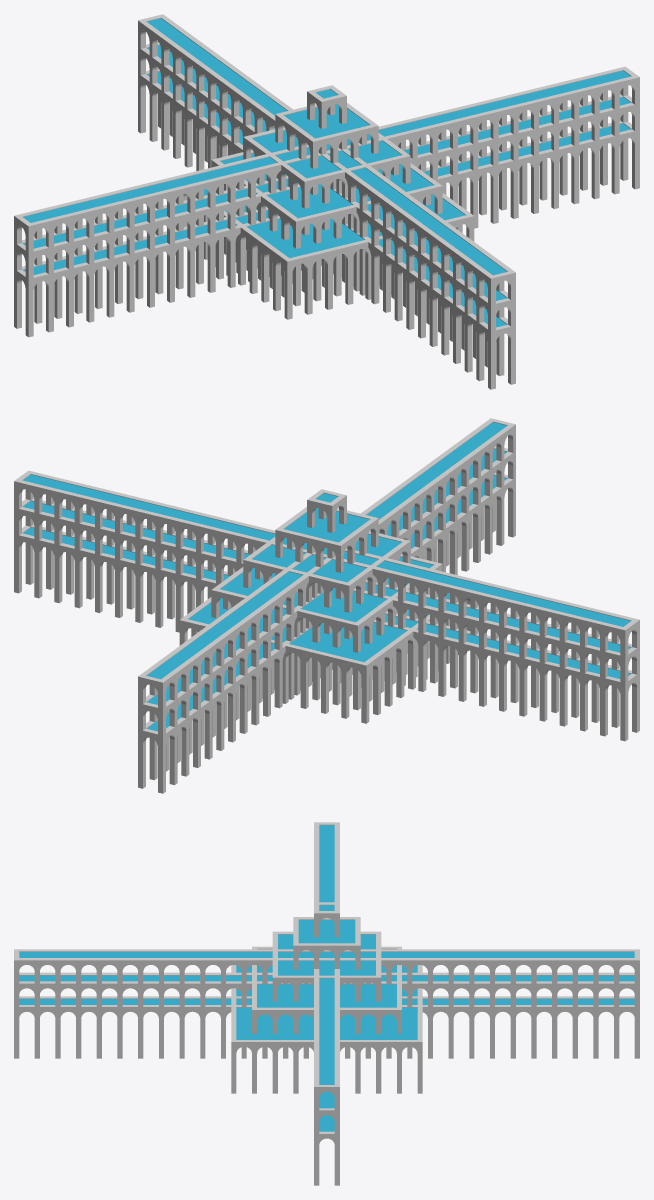
The model's file is world5_cross2.obj.
3 renders of one model, top to bottom at view 1: azimuth 30°, elevation 25°; view 2: azimuth 150°, elevation 25°; view 3: azimuth 270°, elevation 25°, orthographic. The views are drawn at different scales.
Visible parts, largest first — view 1: block, water; view 2: block, water; view 3: block, water.
Boxes of the visible parts, box(x1,y1,x2,y2) form: block: box(14, 14, 639, 389); water: box(23, 18, 630, 327); block: box(14, 418, 639, 793); water: box(23, 422, 630, 731); block: box(14, 822, 639, 1185); water: box(19, 825, 634, 1131).
Bounding box in the file's own units: 1210 × 310 × 1210.
